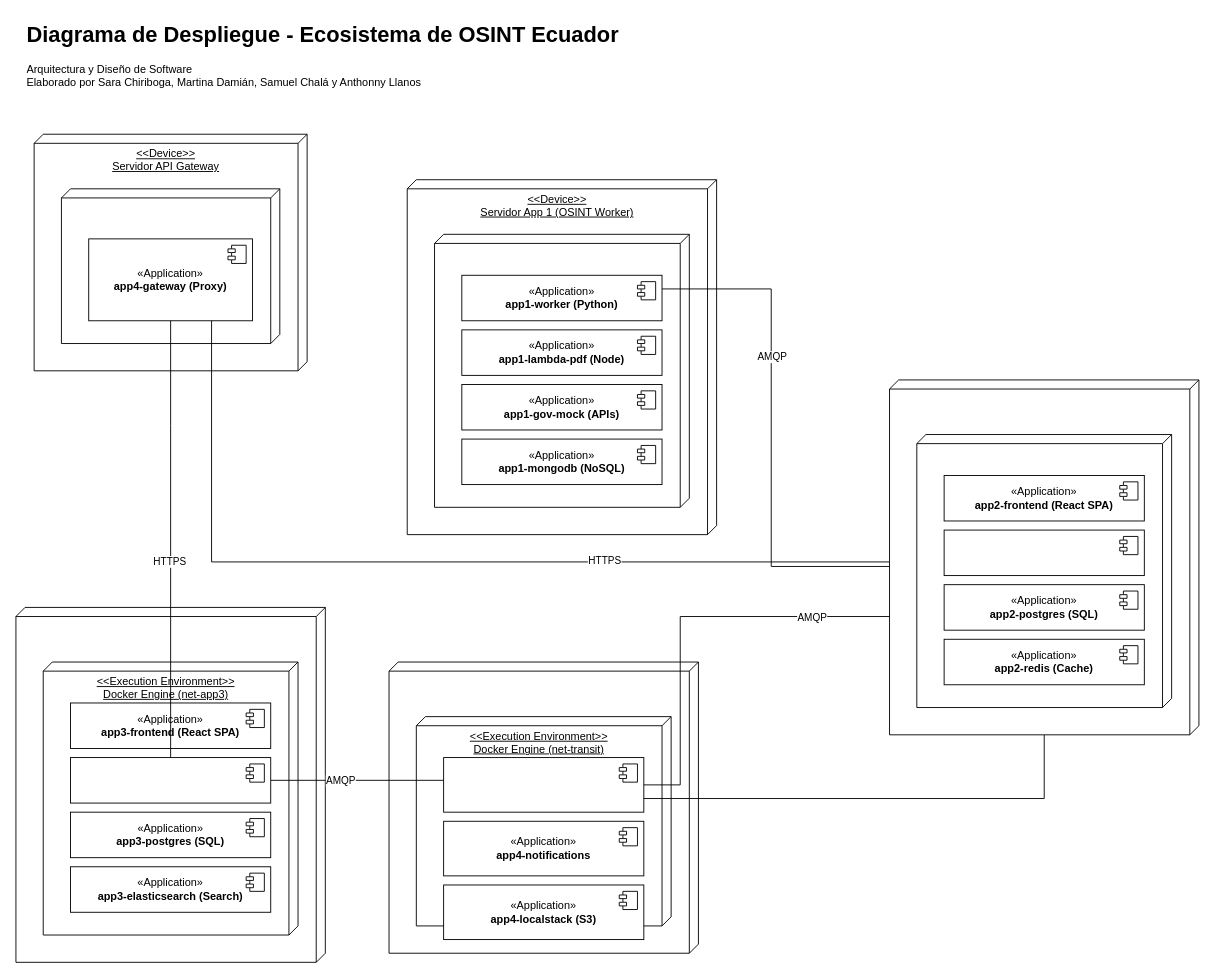
Some shapes in this 1215 by 978 pixel diagram are drawn without their labels. The box of each missing label's shape, as (x1, y1, x2, y2) in pixels:
<<Device>> Servidor App 2 (Portal): (889, 379, 1199, 735)
<<Device>> Servidor App 3 (Compliance): (15, 607, 325, 962)
<<Device>> Servidor Transit & Broker: (388, 661, 698, 953)
<<Execution Environment>> Docker Engine (net-app1): (434, 233, 689, 507)
<<Execution Environment>> Docker Engine (net-app2): (916, 434, 1172, 708)
<<Execution Environment>> NGINX 1.25 Engine: (61, 188, 280, 344)
«Application» app2-backend (Spring Boot): (943, 529, 1144, 576)
«Application» app3-backend (Spring Boot): (70, 757, 271, 803)
«Application» app4-rabbitmq (Broker): (443, 757, 644, 812)
